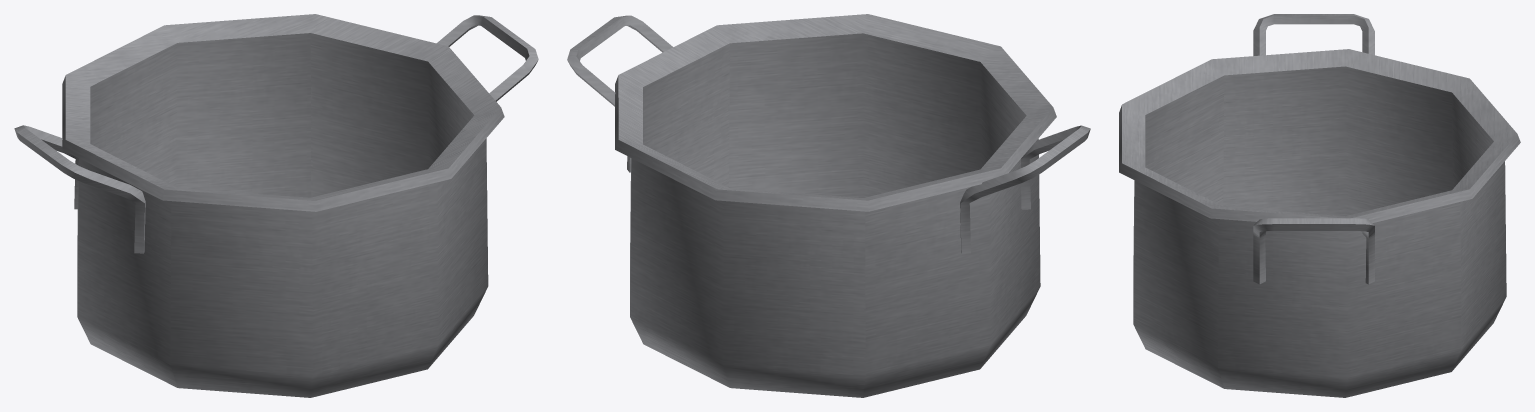
File: Cooking_pot.glb
3 views of the same model, side by side, from view 1: azimuth 30°, elevation 25°; view 2: azimuth 150°, elevation 25°; view 3: azimuth 270°, elevation 25° (orthographic). The views are drawn at different scales.
Parts seen in each view (by area): view 1: Cooking_pot; view 2: Cooking_pot; view 3: Cooking_pot.
Boxes of the visible parts, <box> form: Cooking_pot: <box>14,14,538,397</box>; Cooking_pot: <box>567,14,1090,397</box>; Cooking_pot: <box>1119,14,1520,397</box>.
Bounding box in the file's own units: 0.5122 × 0.2472 × 0.414.
Materials: 1 (1 with a texture image).
